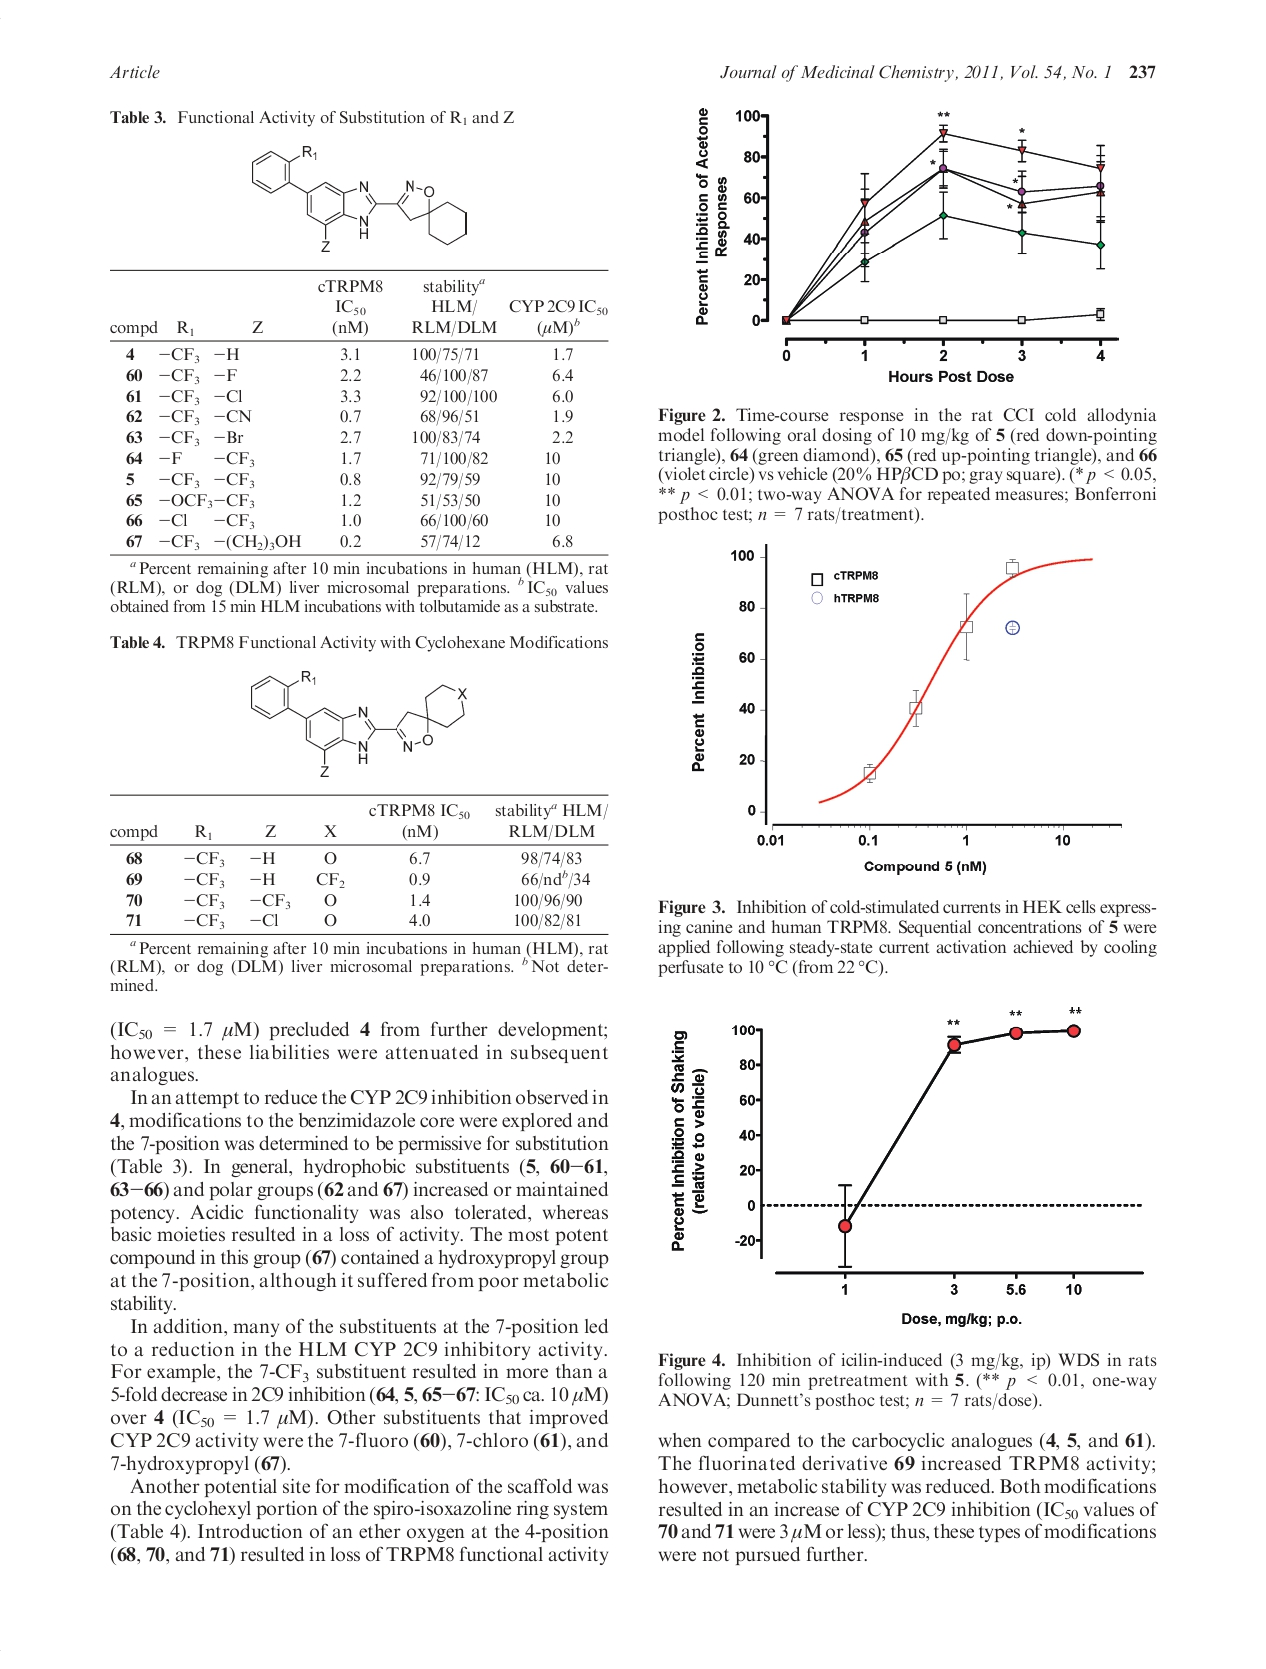exist_molecular: (247, 141, 472, 255), (245, 668, 469, 781)
